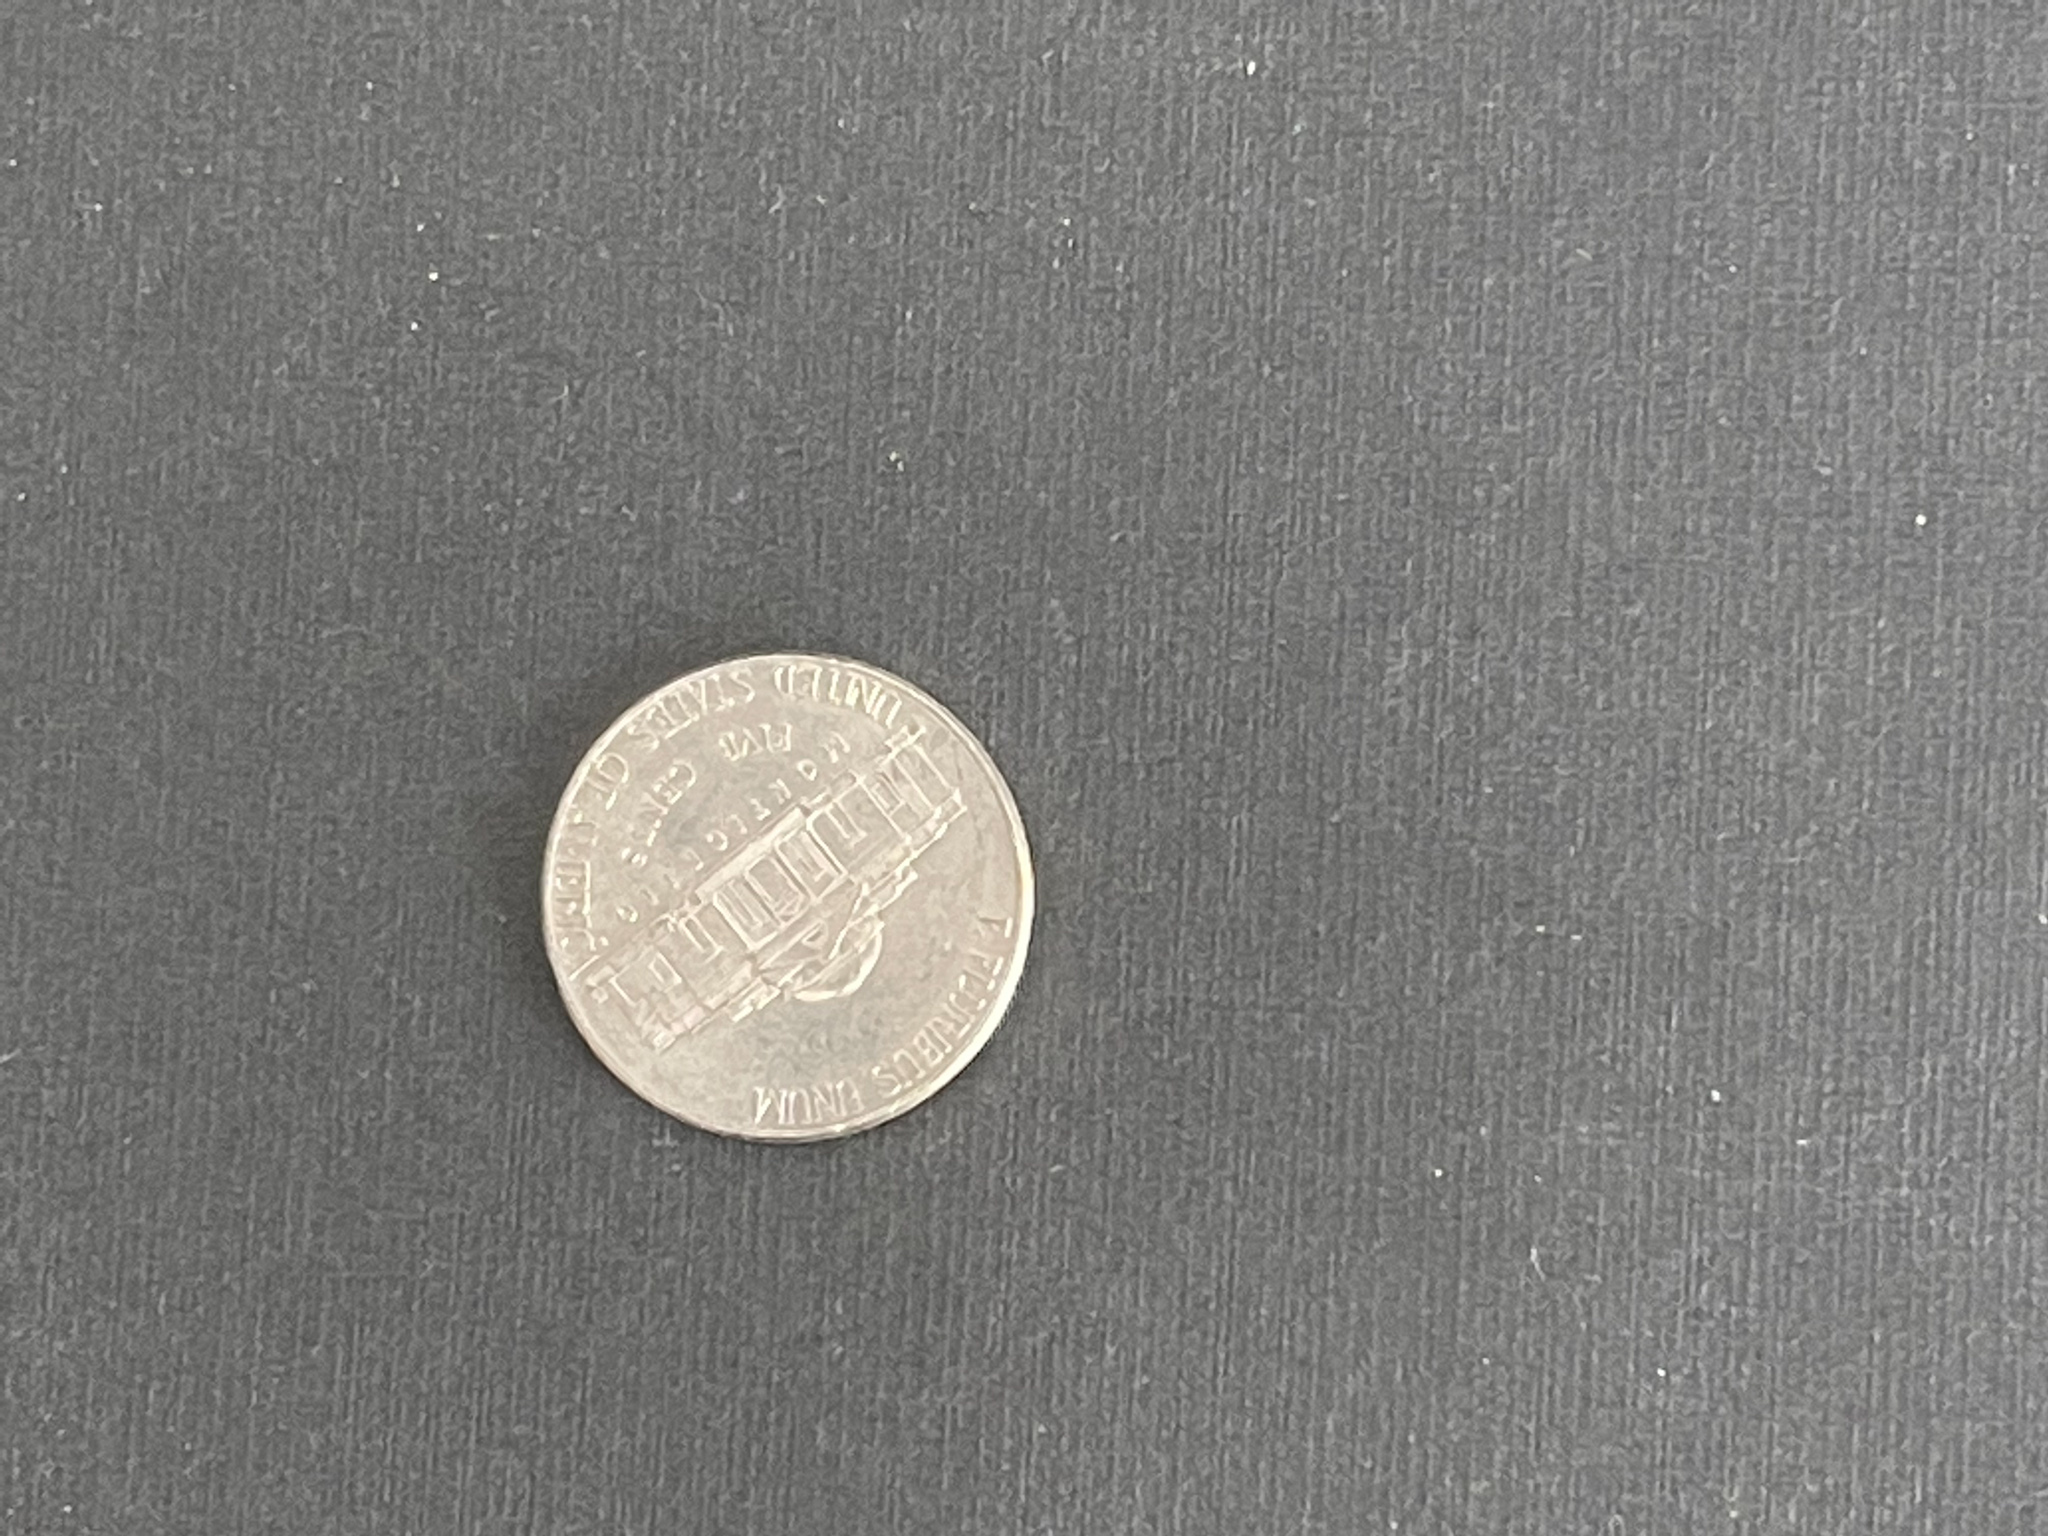nickel: (531, 649, 1045, 1150)
